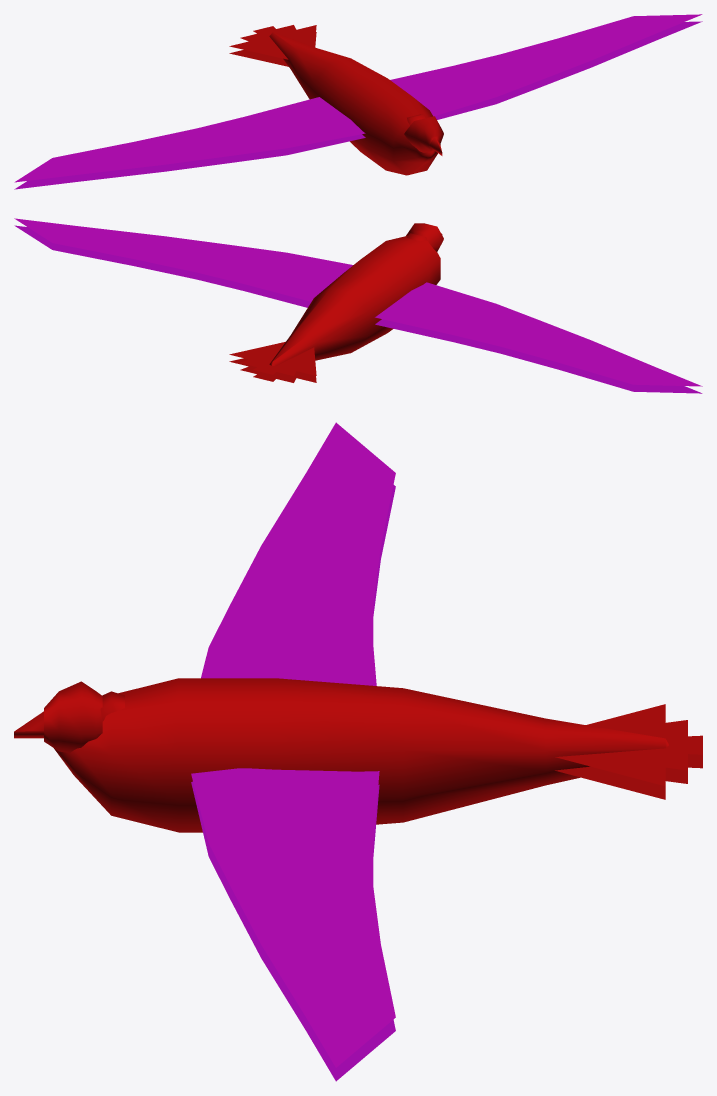
File: yelkouan.glb
3 renders of one model, top to bottom at view 1: azimuth 30°, elevation 25°; view 2: azimuth 150°, elevation 25°; view 3: azimuth 270°, elevation 25°, orthographic. The views are drawn at different scales.
Visible parts, largest first — view 1: bird; view 2: bird; view 3: bird.
Boxes of the visible parts, x1,y1,x2,y2 form: bird: (14,14,702,189); bird: (14,218,702,393); bird: (14,422,702,1081).
Size of the model in its own units: 0.7969 by 0.0742 by 0.3594.
